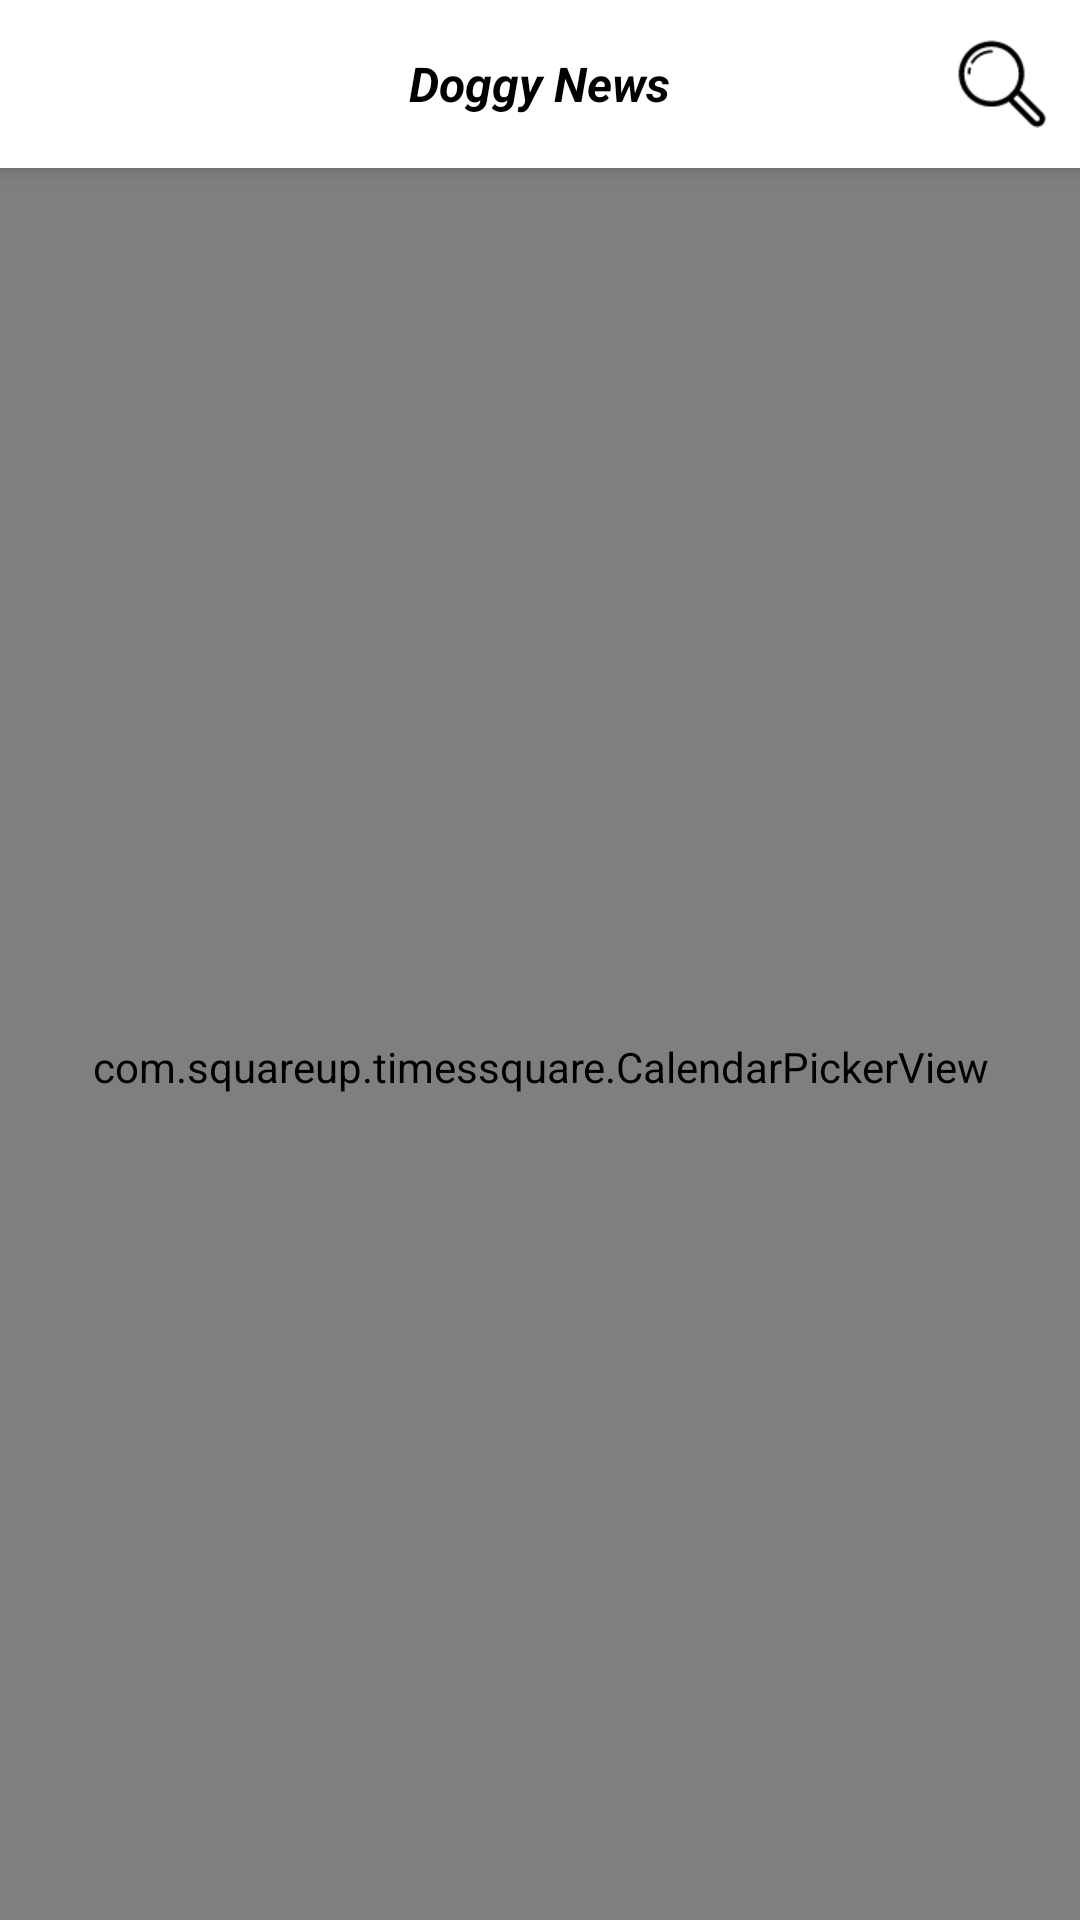

Screen size 1080x1920. Icon name, then its center in pixels as (x,y):
search: (1002,84)
